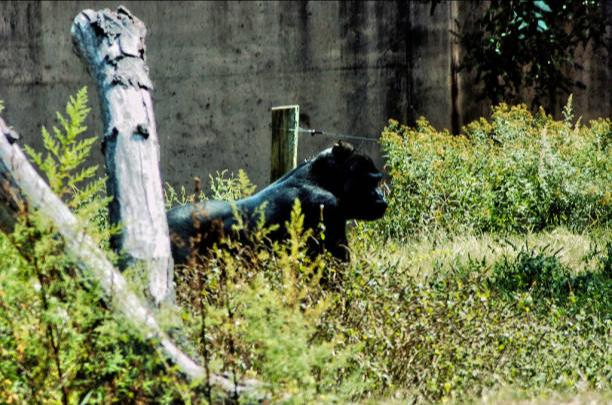gorille_Autres: (176, 138, 416, 292)
